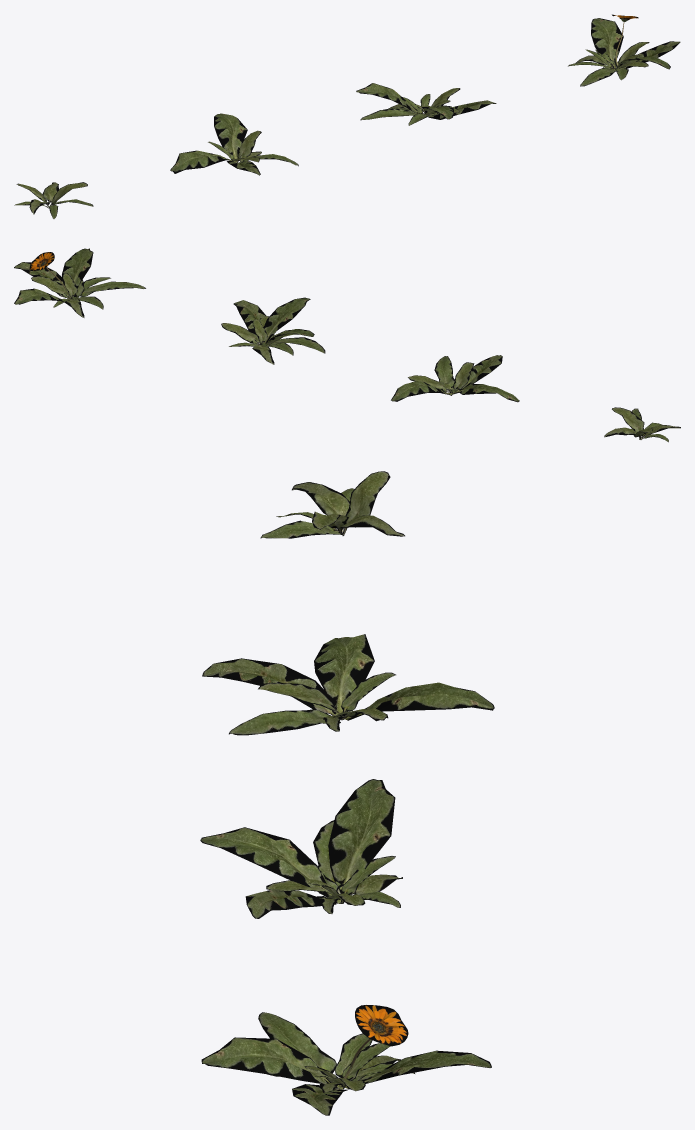
The model's file is gazania.glb.
3 renders of one model, top to bottom at view 1: azimuth 30°, elevation 25°; view 2: azimuth 150°, elevation 25°; view 3: azimuth 270°, elevation 25°, orthographic. The views are drawn at different scales.
Parts seen in each view (by area): view 1: flower_gazania_d_LOD0, flower_gazania_b_LOD0, flower_gazania_c_LOD0, flower_gazania_a_LOD0; view 2: flower_gazania_d_LOD0, flower_gazania_c_LOD0, flower_gazania_b_LOD0, flower_gazania_a_LOD0; view 3: flower_gazania_c_LOD0, flower_gazania_d_LOD0, flower_gazania_b_LOD0, flower_gazania_a_LOD0.
Part boxes in pixels (x1,y1,x2,y2): flower_gazania_d_LOD0: (568, 14, 680, 86); flower_gazania_b_LOD0: (170, 113, 298, 175); flower_gazania_c_LOD0: (356, 83, 496, 125); flower_gazania_a_LOD0: (14, 182, 93, 218); flower_gazania_d_LOD0: (14, 248, 145, 317); flower_gazania_c_LOD0: (221, 297, 325, 364); flower_gazania_b_LOD0: (391, 355, 519, 402); flower_gazania_a_LOD0: (604, 407, 680, 442); flower_gazania_c_LOD0: (200, 779, 402, 918); flower_gazania_d_LOD0: (201, 1005, 491, 1115); flower_gazania_b_LOD0: (202, 634, 494, 735); flower_gazania_a_LOD0: (260, 471, 404, 538).
Size of the model in its own units: 1.4 by 0.0998 by 0.2701.
Materials: 1 (1 with a texture image).
